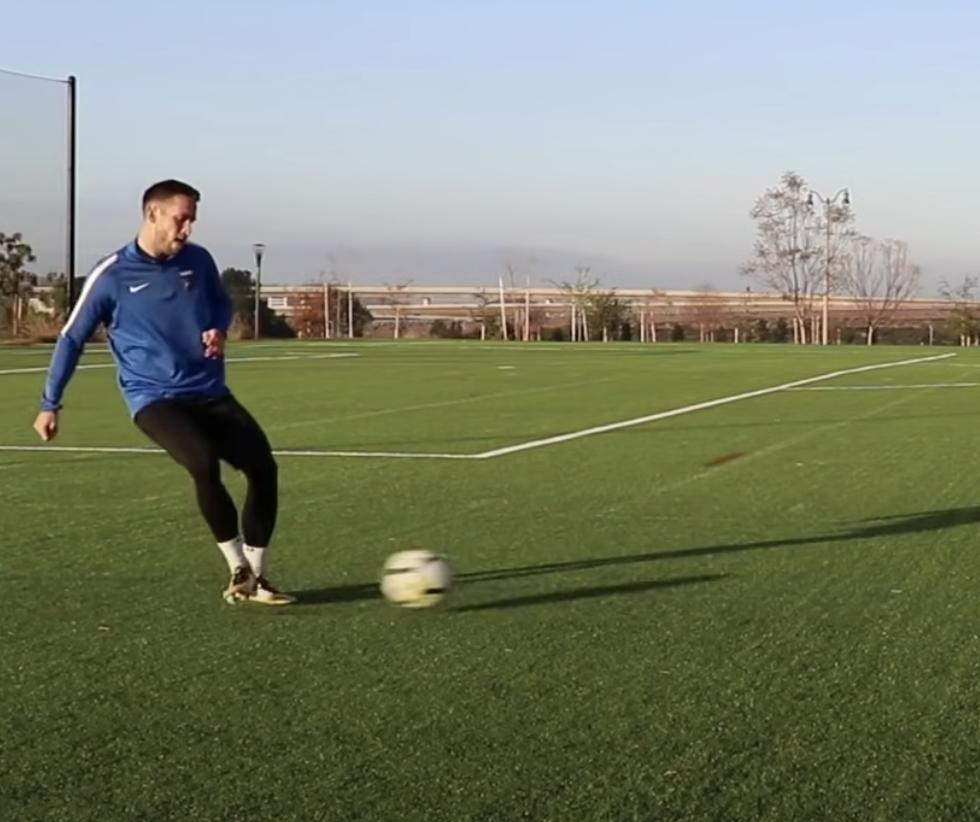ball: (379, 549, 452, 610)
foot: (229, 564, 294, 609)
person: (33, 179, 296, 605)
